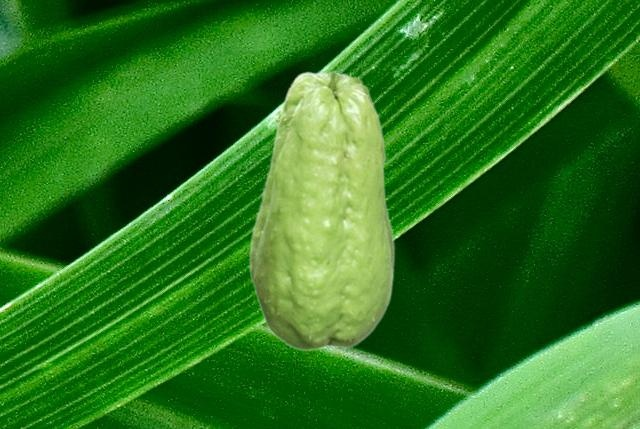sayote: (248, 70, 395, 351)
